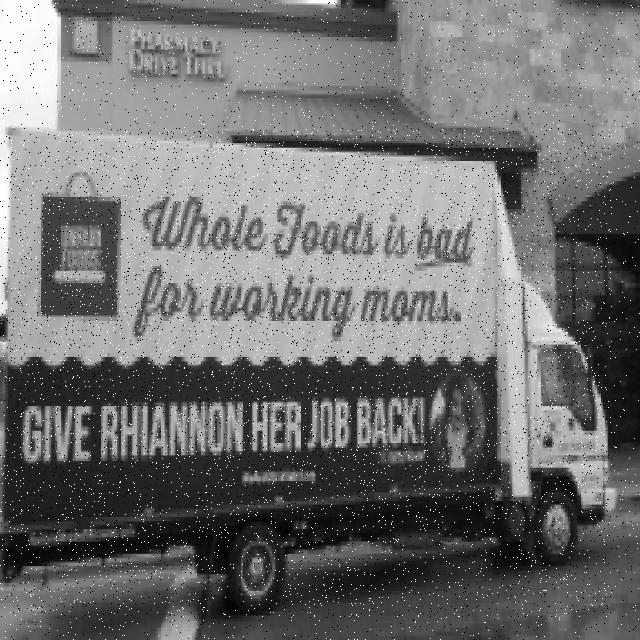Box Truck: (0, 128, 612, 617)
